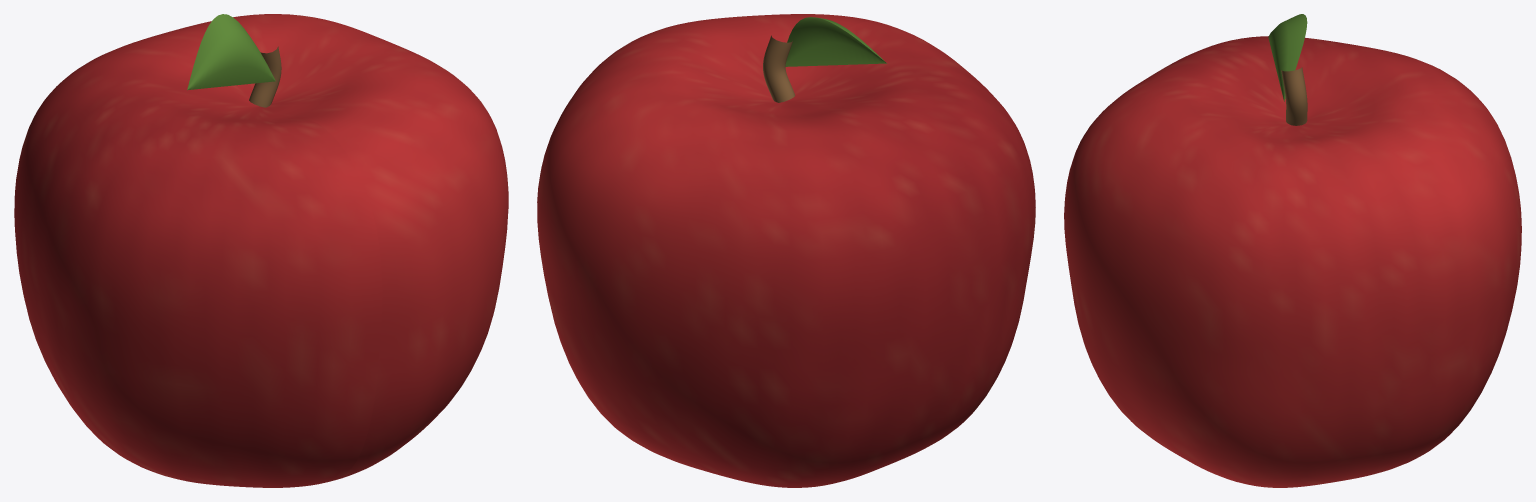
The model's file is apple-hd.glb.
3 renders of one model, left to right at view 1: azimuth 30°, elevation 25°; view 2: azimuth 150°, elevation 25°; view 3: azimuth 270°, elevation 25°, orthographic. The views are drawn at different scales.
Parts seen in each view (by area): view 1: apple; view 2: apple; view 3: apple.
Boxes of the visible parts, <box> form: apple: <box>14,14,508,487</box>; apple: <box>537,14,1035,487</box>; apple: <box>1064,14,1521,487</box>.
Size of the model in its own units: 0.8832 by 0.8515 by 0.8561.
